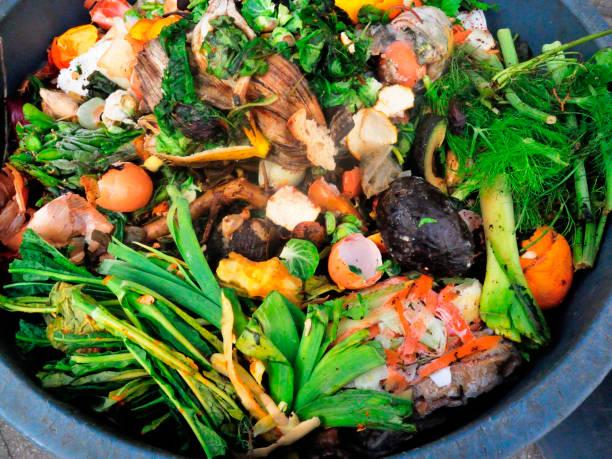organic: (11, 203, 413, 453), (133, 4, 332, 172), (491, 24, 611, 91), (31, 122, 140, 175), (331, 278, 415, 322), (128, 237, 206, 279), (571, 154, 599, 264), (445, 158, 500, 205), (5, 266, 104, 290), (59, 364, 146, 389), (98, 377, 160, 412), (8, 158, 70, 192), (513, 137, 573, 171), (64, 349, 147, 373), (503, 91, 559, 126), (50, 330, 129, 349), (596, 130, 612, 217), (0, 294, 55, 313)
